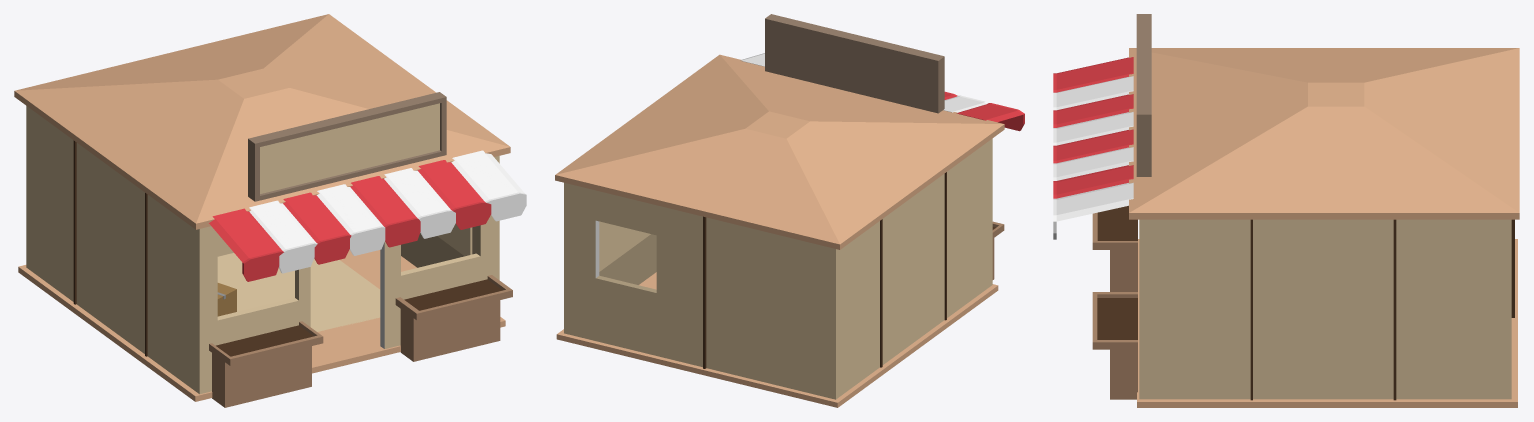
Rendered from Storage.fbx.
The picture shows the model from 3 angles, left to right: view 1: azimuth 30°, elevation 25°; view 2: azimuth 150°, elevation 25°; view 3: azimuth 270°, elevation 25°; orthographic projection. The views are drawn at different scales.
Visible parts, largest first — view 1: Roof, Walls, Flower Pots, Floor, Stack of Boxes; view 2: Walls, Roof, Floor; view 3: Roof, Walls, Flower Pots, Floor.
Boxes of the visible parts, x1,y1,x2,y2 form: Roof: (14,14,526,281); Walls: (26,106,499,394); Flower Pots: (209,275,512,407); Floor: (18,250,505,401); Stack of Boxes: (217,283,236,316); Walls: (564,138,992,399); Roof: (555,14,1024,249); Floor: (556,272,998,407); Roof: (1053,14,1519,239); Walls: (1139,219,1514,400); Flower Pots: (1092,205,1137,399); Floor: (1137,239,1517,407).
Size of the model in its own units: 561 by 417 by 670.
